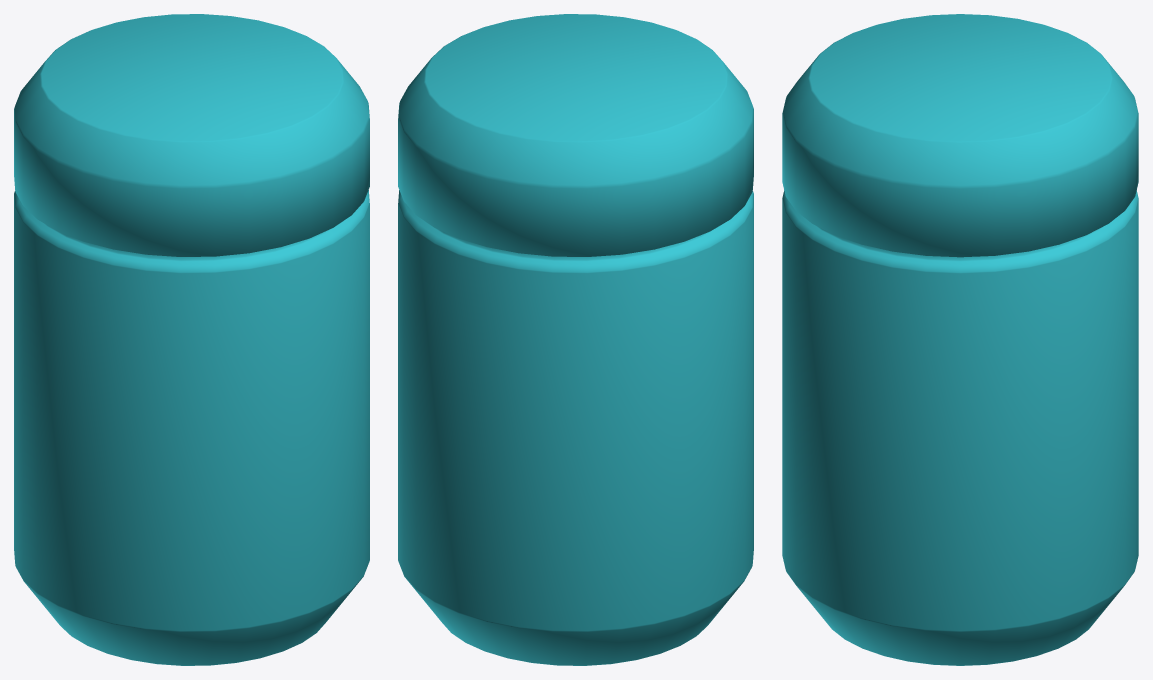
File: MedicineSmall_Low.fbx
3 views of the same model, side by side, from view 1: azimuth 30°, elevation 25°; view 2: azimuth 150°, elevation 25°; view 3: azimuth 270°, elevation 25° (orthographic).
Visible parts, largest first — view 1: LowPoly; view 2: LowPoly; view 3: LowPoly.
Part boxes in pixels (left/top/right/bottom): LowPoly: left=14, top=14, right=369, bottom=665; LowPoly: left=398, top=14, right=753, bottom=665; LowPoly: left=782, top=14, right=1138, bottom=665.
Bounding box in the file's own units: 140 × 230 × 140.
